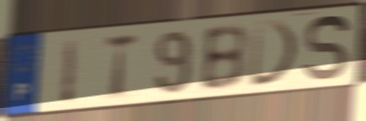9: (152, 28, 194, 96)
B: (198, 22, 249, 94)
D: (248, 18, 303, 89)
I: (58, 36, 82, 107)
S: (302, 13, 352, 84)
T: (102, 31, 142, 102)
